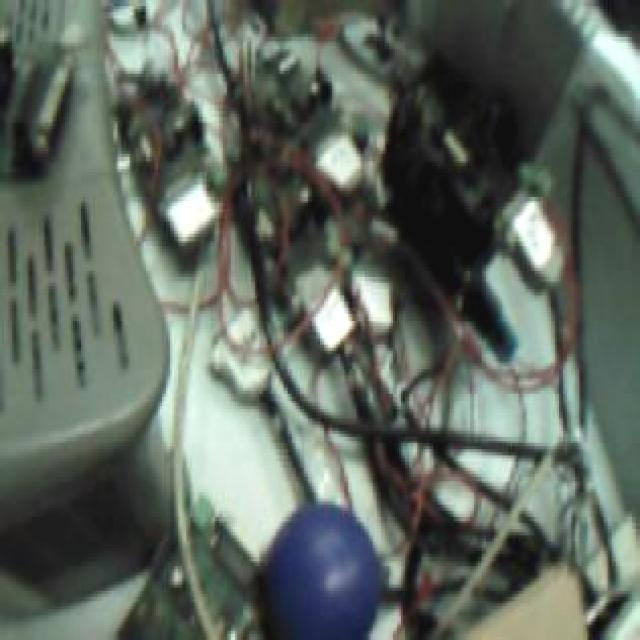BallPurple: (256, 504, 382, 640)
